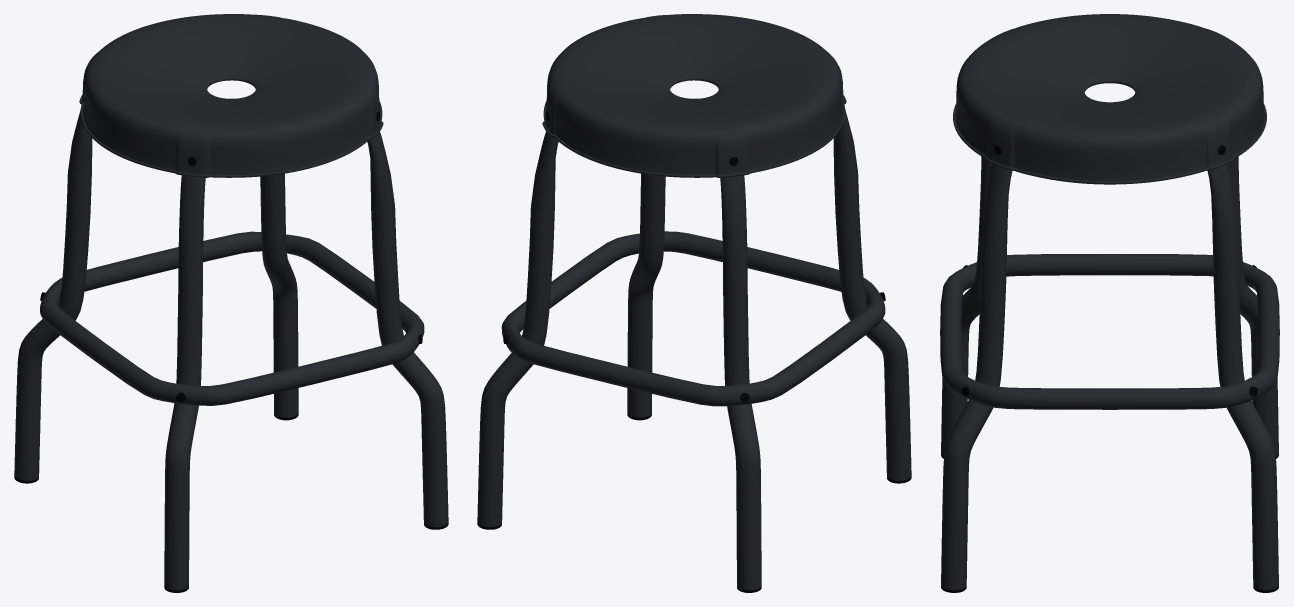
Rendered from chair_60_01.001.fbx.
The picture shows the model from 3 angles, left to right: view 1: azimuth 30°, elevation 25°; view 2: azimuth 150°, elevation 25°; view 3: azimuth 270°, elevation 25°; orthographic projection. The views are drawn at different scales.
Parts seen in each view (by area): view 1: chair_60_01.001; view 2: chair_60_01.001; view 3: chair_60_01.001.
Part boxes in pixels (x1,y1,x2,y2): chair_60_01.001: (14, 14, 448, 592); chair_60_01.001: (477, 14, 911, 592); chair_60_01.001: (940, 14, 1279, 592).
Bounding box in the file's own units: 30.24 × 44.02 × 30.24.
1 material, 1 textured.
